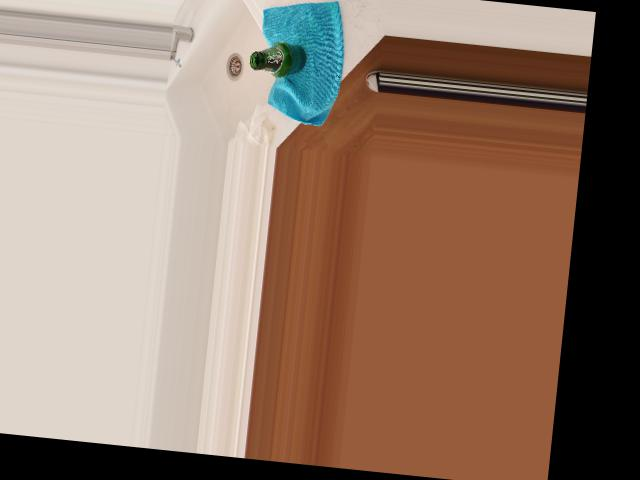beer: (249, 40, 308, 80)
